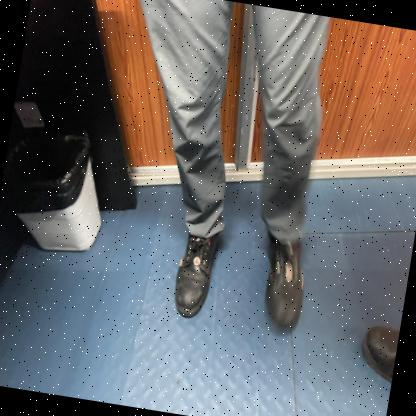bota: (251, 229, 314, 336), (168, 226, 223, 324)
